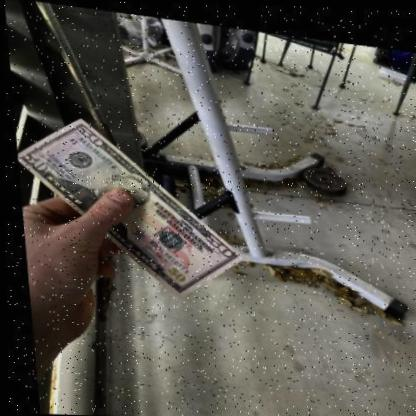fifty-front: (14, 116, 240, 294)
